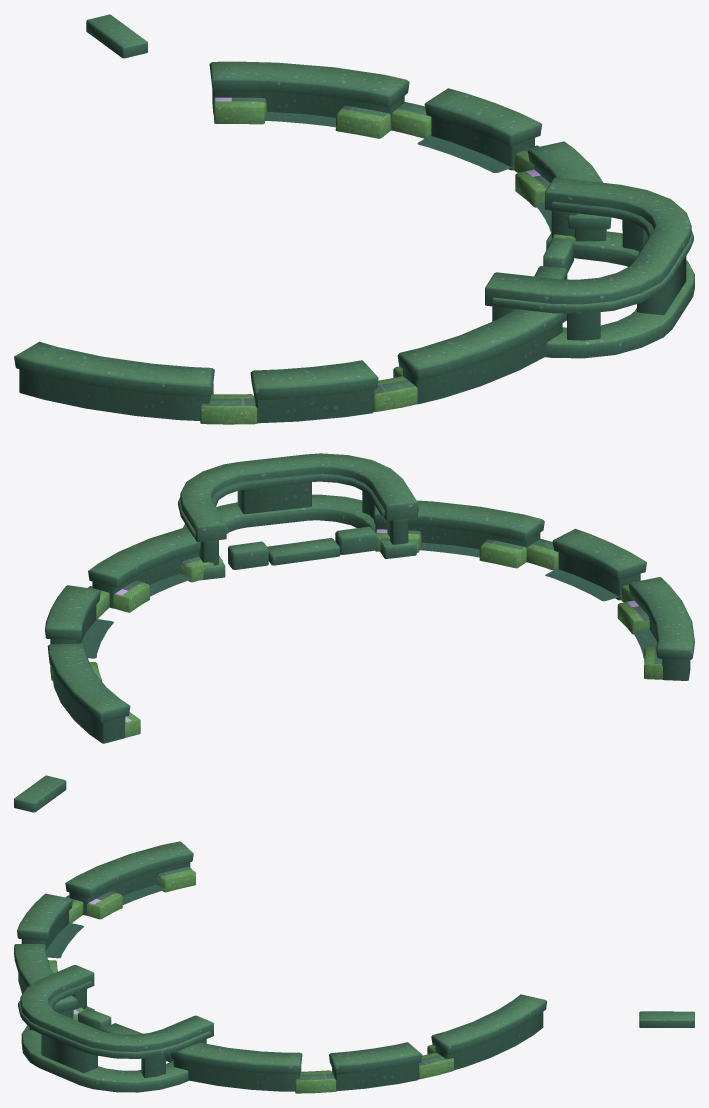
Rendered from pref_sm_garden_bush_vertexcolor_04_lv0.fbx.
3 views of the same model, one above another, from view 1: azimuth 30°, elevation 25°; view 2: azimuth 150°, elevation 25°; view 3: azimuth 270°, elevation 25° (orthographic). The views are drawn at different scales.
Parts seen in each view (by area): view 1: pref_sm_garden_bush_vertexcolor_04_lv0; view 2: pref_sm_garden_bush_vertexcolor_04_lv0; view 3: pref_sm_garden_bush_vertexcolor_04_lv0.
Part boxes in pixels (x1,y1,x2,y2): pref_sm_garden_bush_vertexcolor_04_lv0: (14, 14, 694, 424); pref_sm_garden_bush_vertexcolor_04_lv0: (14, 453, 694, 812); pref_sm_garden_bush_vertexcolor_04_lv0: (14, 841, 694, 1093).
Bounding box in the file's own units: 42.56 × 4.1 × 54.4.
